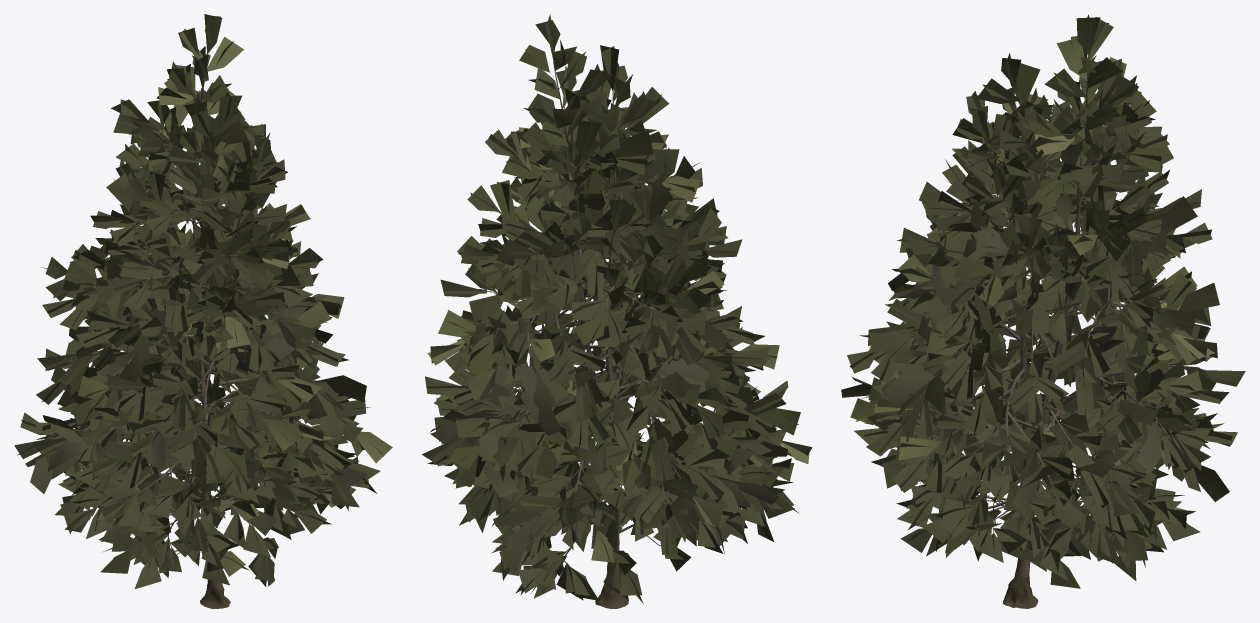
The model's file is SM_BlackAlder_Field_04_PP_LOD5.gltf.
3 views of the same model, side by side, from view 1: azimuth 30°, elevation 25°; view 2: azimuth 150°, elevation 25°; view 3: azimuth 270°, elevation 25° (orthographic). The views are drawn at different scales.
Visible parts, largest first — view 1: SM_BlackAlder_Field_04_PP; view 2: SM_BlackAlder_Field_04_PP; view 3: SM_BlackAlder_Field_04_PP.
Part boxes in pixels (bbox=[...]): SM_BlackAlder_Field_04_PP: bbox=[14, 14, 392, 608]; SM_BlackAlder_Field_04_PP: bbox=[422, 14, 812, 608]; SM_BlackAlder_Field_04_PP: bbox=[841, 14, 1245, 608].
Bounding box in the file's own units: 6.82 × 11.48 × 6.99.
3 materials, 3 textured.
